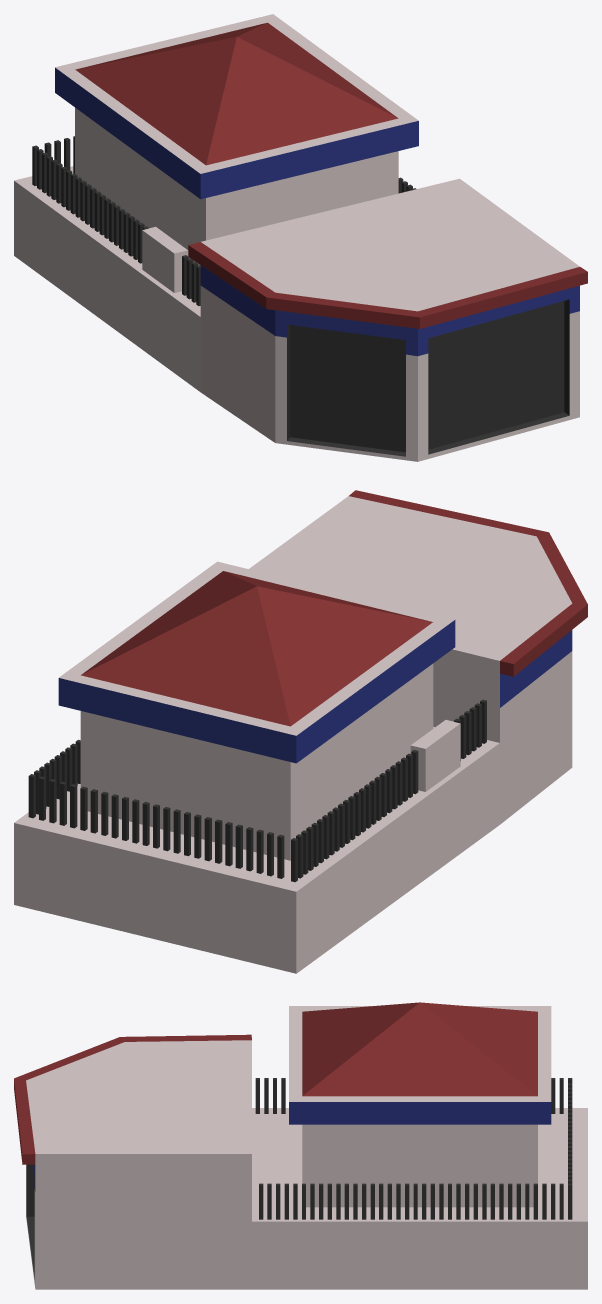
File: loja_23.fbx
3 views of the same model, one above another, from view 1: azimuth 30°, elevation 25°; view 2: azimuth 150°, elevation 25°; view 3: azimuth 270°, elevation 25° (orthographic). The views are drawn at different scales.
Visible parts, largest first — view 1: Cube; view 2: Cube; view 3: Cube.
Boxes of the visible parts, x1=… form: Cube: x1=14, y1=14, x2=587, y2=461; Cube: x1=14, y1=490, x2=587, y2=973; Cube: x1=14, y1=1002, x2=587, y2=1289.
Bounding box in the file's own units: 379 × 340 × 768.
